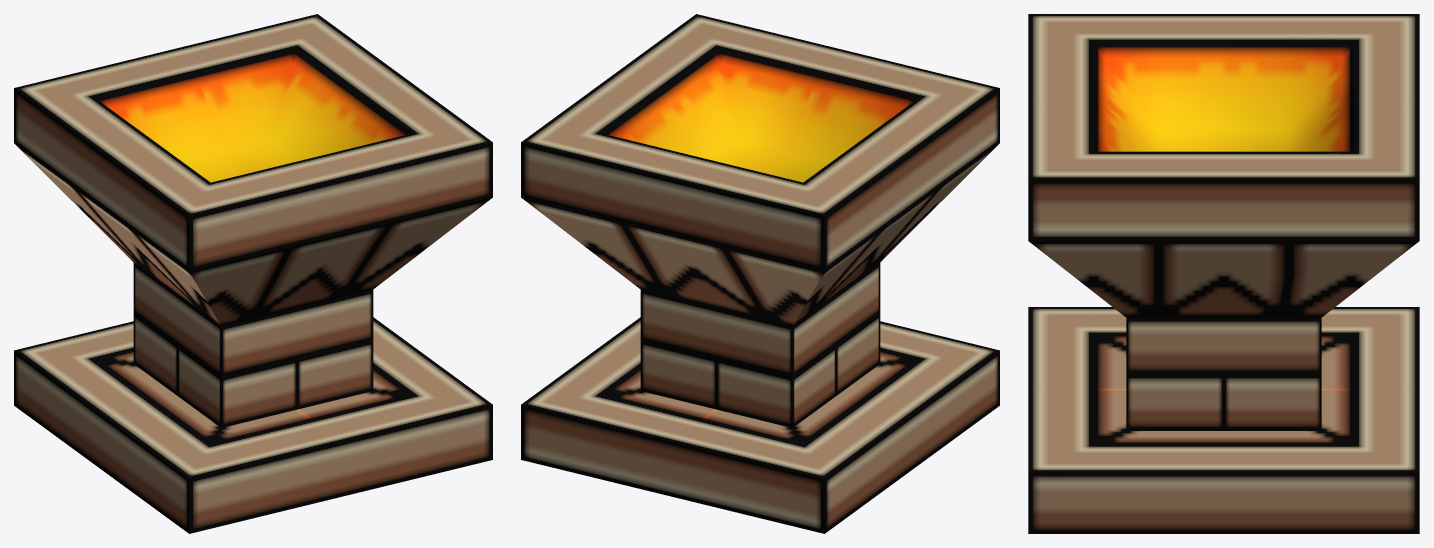
The model's file is deco_censer_lit.FBX.
The picture shows the model from 3 angles, left to right: view 1: azimuth 30°, elevation 25°; view 2: azimuth 150°, elevation 25°; view 3: azimuth 270°, elevation 25°; orthographic projection. The views are drawn at different scales.
Parts seen in each view (by area): view 1: deco_censer_lit; view 2: deco_censer_lit; view 3: deco_censer_lit.
Part boxes in pixels (left/top/right/bottom): deco_censer_lit: left=14, top=14, right=492, bottom=533; deco_censer_lit: left=521, top=14, right=999, bottom=533; deco_censer_lit: left=1028, top=14, right=1419, bottom=533.
Size of the model in its own units: 1.5 by 1.5 by 1.5.
1 material, 1 textured.
